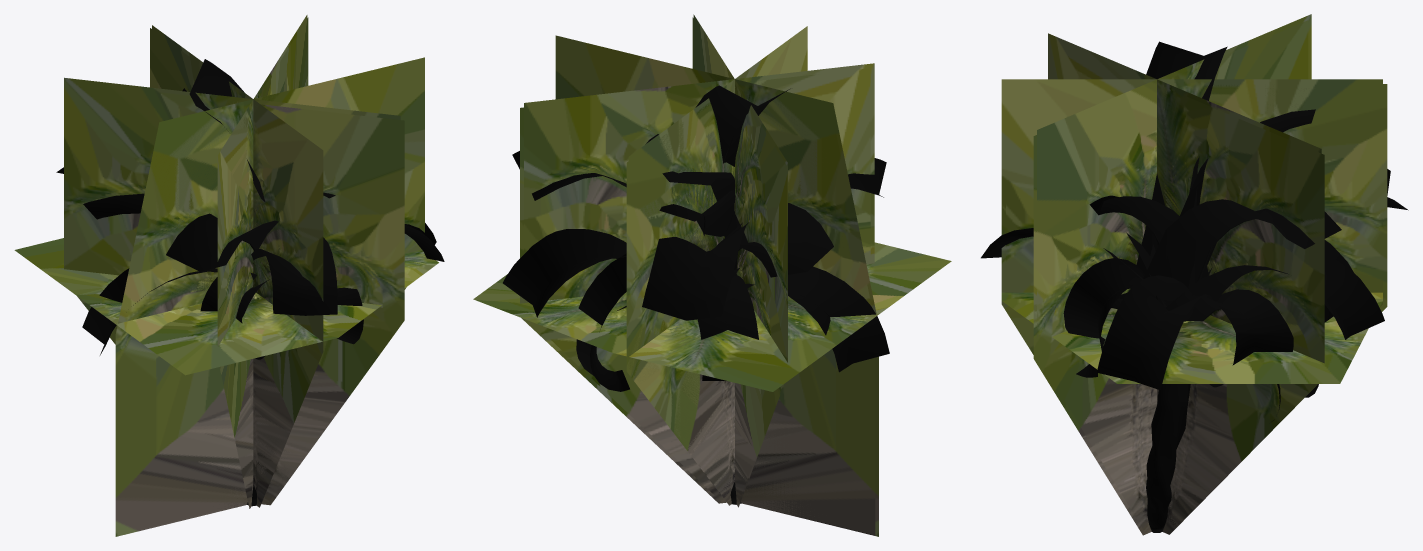
The model's file is Palm3.fbx.
3 views of the same model, side by side, from view 1: azimuth 30°, elevation 25°; view 2: azimuth 150°, elevation 25°; view 3: azimuth 270°, elevation 25° (orthographic). The views are drawn at different scales.
Parts seen in each view (by area): view 1: Billboard, LOD0; view 2: Billboard, LOD0; view 3: Billboard, LOD0.
Part boxes in pixels (left/top/right/bottom): Billboard: left=14, top=15, right=438, bottom=536; LOD0: left=56, top=59, right=444, bottom=506; Billboard: left=473, top=14, right=951, bottom=536; LOD0: left=503, top=85, right=889, bottom=504; Billboard: left=1001, top=14, right=1387, bottom=535; LOD0: left=981, top=41, right=1408, bottom=532.
Size of the model in its own units: 7.88 by 9.53 by 7.8.
